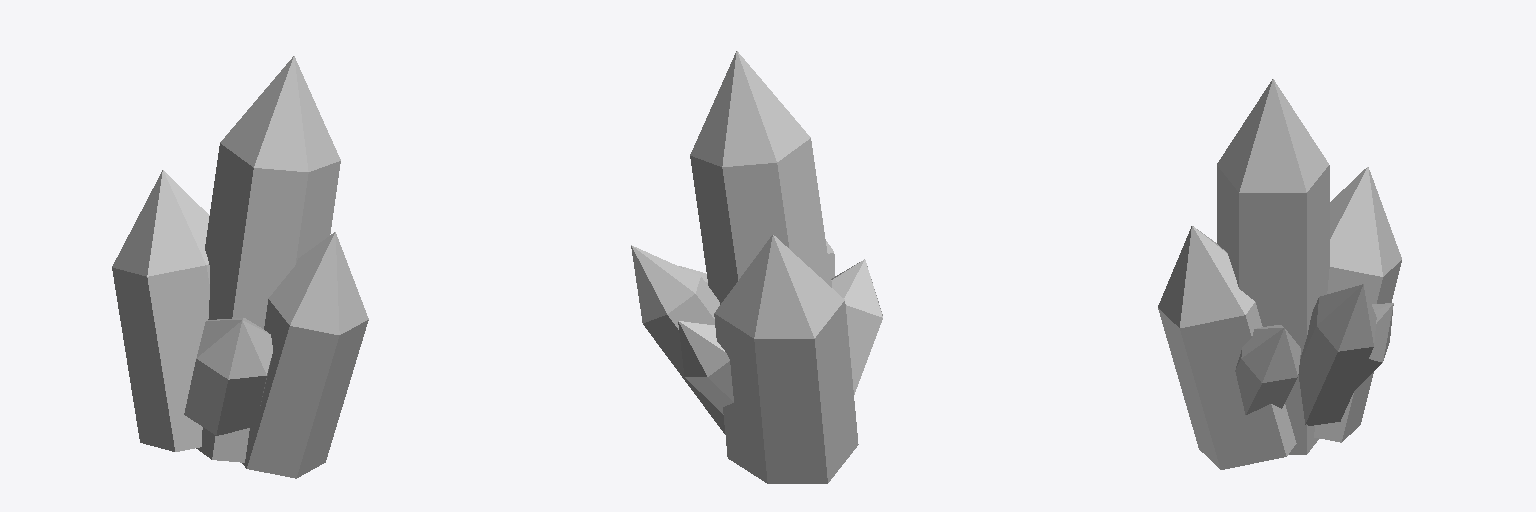
The model's file is crystal_ore.obj.
The picture shows the model from 3 angles: view 1: azimuth 30°, elevation 25°; view 2: azimuth 150°, elevation 25°; view 3: azimuth 270°, elevation 25°; orthographic projection.
Parts seen in each view (by area): view 1: Cube, Cube.003, Cube.001, Cube.002; view 2: Cube.003, Cube, Cube.004, Cube.002, Cube.006; view 3: Cube, Cube.001, Cube.003, Cube.004, Cube.005, Cube.006.
Part boxes in pixels (x1,y1,x2,y2): Cube: (196,56,340,462); Cube.003: (112,170,209,451); Cube.001: (242,232,368,478); Cube.002: (184,317,272,435); Cube.003: (714,235,858,483); Cube: (690,51,831,304); Cube.004: (631,245,724,433); Cube.002: (831,259,882,394); Cube.006: (678,321,733,414); Cube: (1217,79,1329,454); Cube.001: (1158,226,1296,469); Cube.003: (1314,167,1401,442); Cube.004: (1298,284,1376,425); Cube.005: (1235,325,1300,414); Cube.006: (1354,303,1393,390).
Bounding box in the file's own units: 3.9 × 7.61 × 4.33.